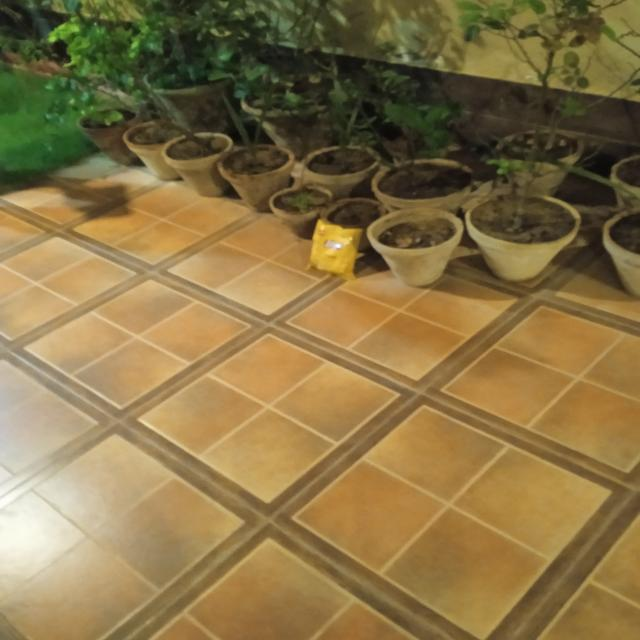Plastic: (304, 216, 369, 282)
